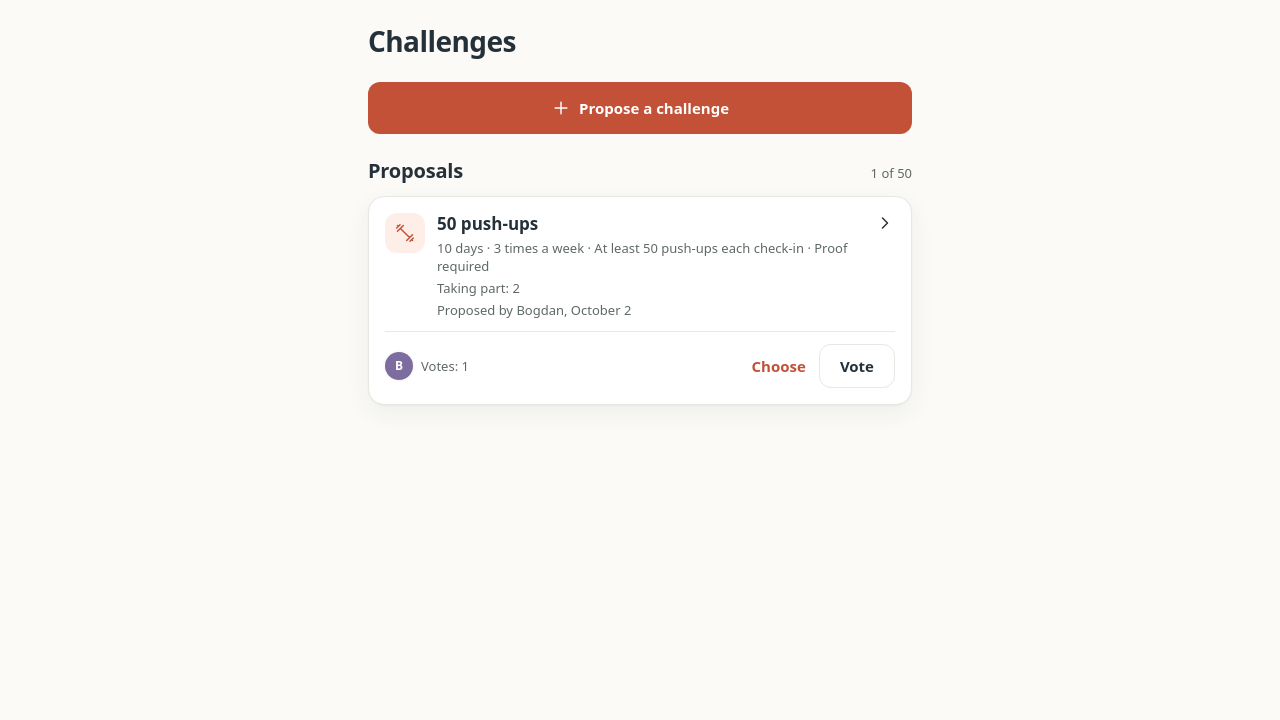
Test case: challenges list › says when the chosen start cuts the first week short
Click the button "Choose". click: [779, 366]
box: [743,344,815,388]
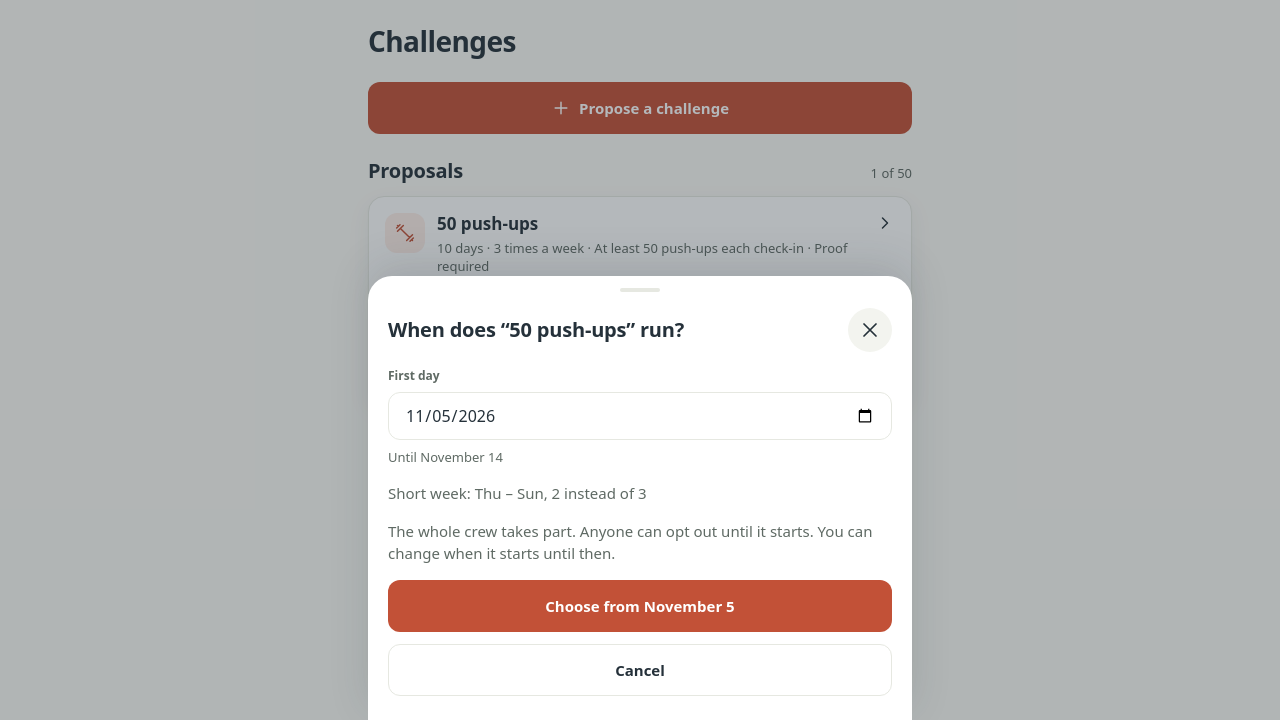
Result: the text "Short week: Thu – Sun, 2 instead of 3" is shown at [388,483,646,503]
Type "2026-11-09" into the date field labelled "First day". click: [640, 416]
box: [388,392,892,440]
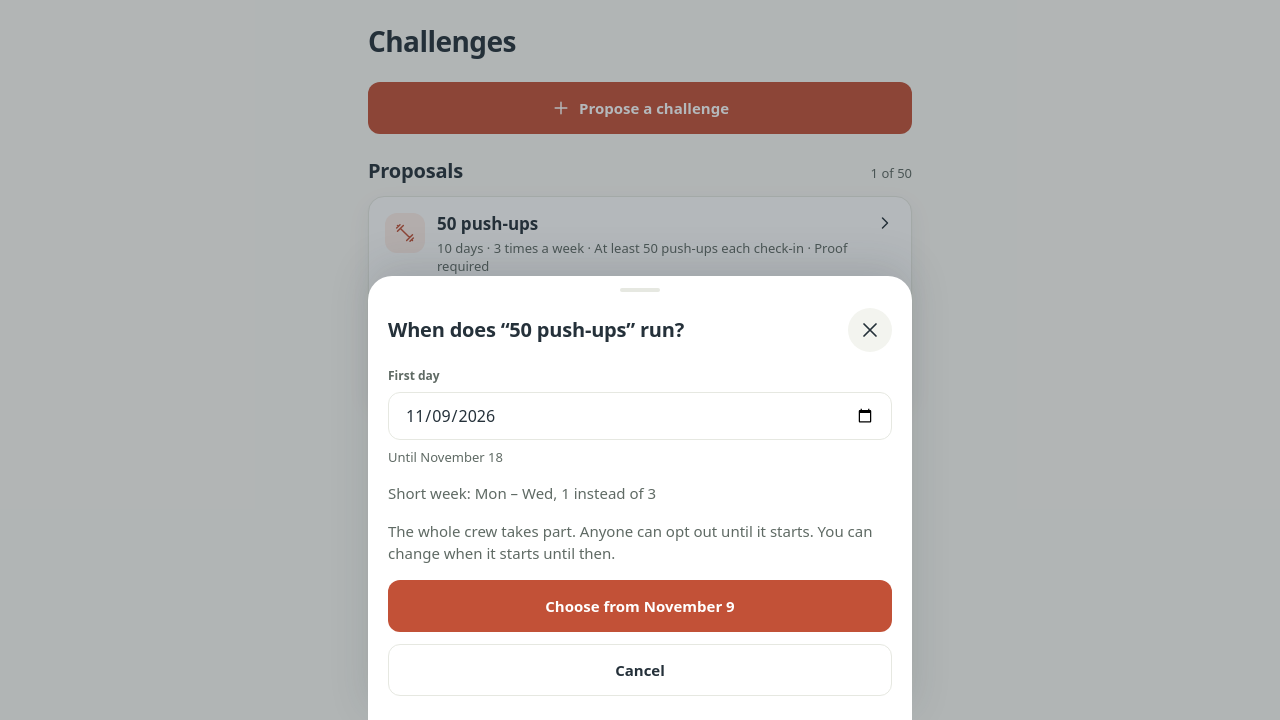
Result: the text "Short week: Mon – Wed, 1 instead of 3" is shown at [388,483,656,503]
Result: the text "Thu – Sun" is gone
